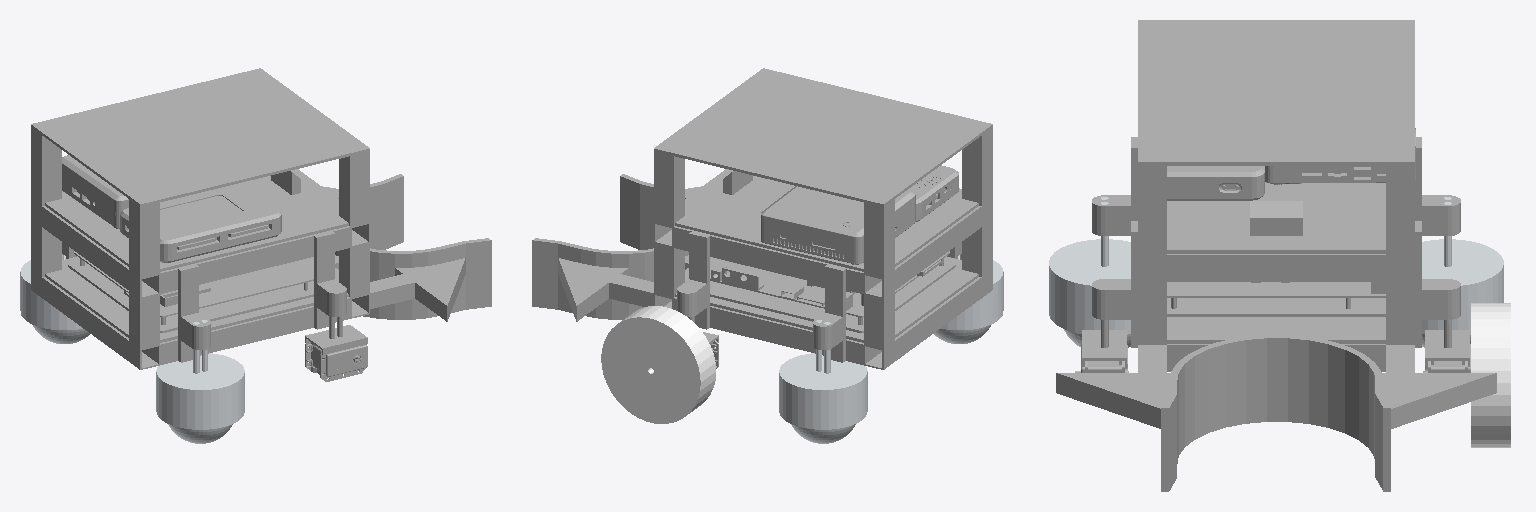
robot.urdf — lide:
<?xml version="1.0" encoding="utf-8"?>
<!-- This URDF was automatically created by SolidWorks to URDF Exporter! Originally created by [author] ([email redacted]) 
     Commit Version: 1.5.1-0-g916b5db  Build Version: 1.5.7152.31018
     For more information, please see http://wiki.ros.org/sw_urdf_exporter -->
<robot
  name="lide">
  <link
    name="base_link">
    <inertial>
      <origin
        xyz="-0.0711042596618135 0.00200303179776212 -0.0992852147953348"
        rpy="0 0 0" />
      <mass
        value="2.75314359310368" />
      <inertia
        ixx="0.00656124977474365"
        ixy="-4.33905688750446E-07"
        ixz="7.93136902499257E-06"
        iyy="0.00572527308396684"
        iyz="-4.29101613517159E-07"
        izz="0.0116295244162173" />
    </inertial>
    <visual>
      <origin
        xyz="0 0 0"
        rpy="0 0 0" />
      <geometry>
        <mesh
          filename="package://lide/meshes/base_link.STL" />
      </geometry>
      <material
        name="">
        <color
          rgba="0.752941176470588 0.752941176470588 0.752941176470588 1" />
      </material>
    </visual>
    <collision>
      <origin
        xyz="0 0 0"
        rpy="0 0 0" />
      <geometry>
        <mesh
          filename="package://lide/meshes/base_link.STL" />
      </geometry>
    </collision>
  </link>
  <link
    name="LFS">
    <inertial>
      <origin
        xyz="0.0455532547277625 -0.0606200162377168 0.00316237571883916"
        rpy="0 0 0" />
      <mass
        value="0.0606810735326679" />
      <inertia
        ixx="1.7187359000971E-05"
        ixy="-1.64845302056363E-08"
        ixz="-1.56454773175213E-07"
        iyy="1.57906996487927E-05"
        iyz="2.96411876510814E-09"
        izz="1.34932513987566E-05" />
    </inertial>
    <visual>
      <origin
        xyz="0 0 0"
        rpy="0 0 0" />
      <geometry>
        <mesh
          filename="package://lide/meshes/LFS.STL" />
      </geometry>
      <material
        name="">
        <color
          rgba="0.752941176470588 0.752941176470588 0.752941176470588 1" />
      </material>
    </visual>
    <collision>
      <origin
        xyz="0 0 0"
        rpy="0 0 0" />
      <geometry>
        <mesh
          filename="package://lide/meshes/LFS.STL" />
      </geometry>
    </collision>
  </link>
  <joint
    name="LFS"
    type="fixed">
    <origin
      xyz="-0.00886806590619984 0.084403640036847 -0.1235"
      rpy="1.5707963267949 0 1.5707963267949" />
    <parent
      link="base_link" />
    <child
      link="LFS" />
    <axis
      xyz="0 1 0" />
    <limit
      lower="0"
      upper="0"
      effort="0"
      velocity="0" />
  </joint>
  <link
    name="LFW">
    <inertial>
      <origin
        xyz="0.015 0 0"
        rpy="0 0 0" />
      <mass
        value="0.289786121963991" />
      <inertia
        ixx="0.000439831942427159"
        ixy="2.98814337398872E-36"
        ixz="1.04090832548244E-36"
        iyy="0.000241649930360879"
        iyz="1.61397654169218E-36"
        izz="0.000241649930360879" />
    </inertial>
    <visual>
      <origin
        xyz="0 0 0"
        rpy="0 0 0" />
      <geometry>
        <mesh
          filename="package://lide/meshes/LFW.STL" />
      </geometry>
      <material
        name="">
        <color
          rgba="1 1 1 1" />
      </material>
    </visual>
    <collision>
      <origin
        xyz="0 0 0"
        rpy="0 0 0" />
      <geometry>
        <mesh
          filename="package://lide/meshes/LFW.STL" />
      </geometry>
    </collision>
  </link>
  <joint
    name="LFW"
    type="continuous">
    <origin
      xyz="0.0633463599631528 -0.0698007864376266 0.0150436140506664"
      rpy="0 0 0" />
    <parent
      link="LFS" />
    <child
      link="LFW" />
    <axis
      xyz="1 0 0" />
  </joint>
  <link
    name="RFS">
    <inertial>
      <origin
        xyz="-0.0191756587025613 -0.060657949879968 0.0521917790884628"
        rpy="0 0 0" />
      <mass
        value="0.0606810735326679" />
      <inertia
        ixx="1.7187359000971E-05"
        ixy="-1.64845302056314E-08"
        ixz="1.56454773175216E-07"
        iyy="1.57906996487927E-05"
        iyz="-2.96411876510635E-09"
        izz="1.34932513987566E-05" />
    </inertial>
    <visual>
      <origin
        xyz="0 0 0"
        rpy="0 0 0" />
      <geometry>
        <mesh
          filename="package://lide/meshes/RFS.STL" />
      </geometry>
      <material
        name="">
        <color
          rgba="0.752941176470588 0.752941176470588 0.752941176470588 1" />
      </material>
    </visual>
    <collision>
      <origin
        xyz="0 0 0"
        rpy="0 0 0" />
      <geometry>
        <mesh
          filename="package://lide/meshes/RFS.STL" />
      </geometry>
    </collision>
  </link>
  <joint
    name="RFS"
    type="fixed">
    <origin
      xyz="-0.0578974692758227 -0.110781236062048 -0.1235"
      rpy="1.5707963267949 0 1.5707963267949" />
    <parent
      link="base_link" />
    <child
      link="RFS" />
    <axis
      xyz="0 0 0" />
    <limit
      lower="0"
      upper="0"
      effort="0"
      velocity="0" />
  </joint>
  <link
    name="RFW">
    <inertial>
      <origin
        xyz="-0.015 0 0"
        rpy="0 0 0" />
      <mass
        value="0.289786121963991" />
      <inertia
        ixx="0.000439831942427158"
        ixy="-2.38864125506935E-36"
        ixz="3.24568444428499E-37"
        iyy="0.000241649930360879"
        iyz="1.61397654169217E-36"
        izz="0.000241649930360879" />
    </inertial>
    <visual>
      <origin
        xyz="0 0 0"
        rpy="0 0 0" />
      <geometry>
        <mesh
          filename="package://lide/meshes/RFW.STL" />
      </geometry>
      <material
        name="">
        <color
          rgba="1 1 1 1" />
      </material>
    </visual>
    <collision>
      <origin
        xyz="0 0 0"
        rpy="0 0 0" />
      <geometry>
        <mesh
          filename="package://lide/meshes/RFW.STL" />
      </geometry>
    </collision>
  </link>
  <joint
    name="RFW"
    type="continuous">
    <origin
      xyz="-0.0369687639379516 -0.0697992135623731 0.0640730174202912"
      rpy="0 0 0" />
    <parent
      link="RFS" />
    <child
      link="RFW" />
    <axis
      xyz="1 0 0" />
  </joint>
  <link
    name="LBS">
    <inertial>
      <origin
        xyz="2.77555756156289E-17 -0.0670350798495457 -2.77555756156289E-17"
        rpy="0 0 0" />
      <mass
        value="0.363667376200125" />
      <inertia
        ixx="0.000280063193969241"
        ixy="-5.63019329290559E-20"
        ixz="1.14404597665131E-19"
        iyy="0.000430293340175671"
        iyz="-3.09671083232554E-20"
        izz="0.000279903038811602" />
    </inertial>
    <visual>
      <origin
        xyz="0 0 0"
        rpy="0 0 0" />
      <geometry>
        <mesh
          filename="package://lide/meshes/LBS.STL" />
      </geometry>
      <material
        name="">
        <color
          rgba="0.898039215686275 0.917647058823529 0.929411764705882 1" />
      </material>
    </visual>
    <collision>
      <origin
        xyz="0 0 0"
        rpy="0 0 0" />
      <geometry>
        <mesh
          filename="package://lide/meshes/LBS.STL" />
      </geometry>
    </collision>
  </link>
  <joint
    name="LBS"
    type="fixed">
    <origin
      xyz="-0.156824451855531 0.130000000000001 -0.1235"
      rpy="1.5707963267949 0 1.5707963267949" />
    <parent
      link="base_link" />
    <child
      link="LBS" />
    <axis
      xyz="0 0 0" />
    <limit
      lower="0"
      upper="0"
      effort="0"
      velocity="0" />
  </joint>
  <link
    name="LBW">
    <inertial>
      <origin
        xyz="0 0 -6.93889390390723E-16"
        rpy="0 0 0" />
      <mass
        value="0.484904826081584" />
      <inertia
        ixx="0.000237603364779976"
        ixy="0"
        ixz="0"
        iyy="0.000237603364779976"
        iyz="0"
        izz="0.000237603364779976" />
    </inertial>
    <visual>
      <origin
        xyz="0 0 0"
        rpy="0 0 0" />
      <geometry>
        <mesh
          filename="package://lide/meshes/LBW.STL" />
      </geometry>
      <material
        name="">
        <color
          rgba="0.898039215686275 0.917647058823529 0.929411764705882 1" />
      </material>
    </visual>
    <collision>
      <origin
        xyz="0 0 0"
        rpy="0 0 0" />
      <geometry>
        <mesh
          filename="package://lide/meshes/LBW.STL" />
      </geometry>
    </collision>
  </link>
  <joint
    name="LBW"
    type="fixed">
    <origin
      xyz="0 -0.0898 0"
      rpy="0 0 0" />
    <parent
      link="LBS" />
    <child
      link="LBW" />
    <axis
      xyz="0 0 0" />
  </joint>
  <link
    name="RBS">
    <inertial>
      <origin
        xyz="1.73472347597681E-17 -0.0670350798495457 2.77555756156289E-17"
        rpy="0 0 0" />
      <mass
        value="0.363667376200125" />
      <inertia
        ixx="0.000280063193969241"
        ixy="1.95201437808817E-20"
        ixz="-5.7222726884973E-20"
        iyy="0.000430293340175671"
        iyz="-3.09197962639525E-20"
        izz="0.000279903038811602" />
    </inertial>
    <visual>
      <origin
        xyz="0 0 0"
        rpy="0 0 0" />
      <geometry>
        <mesh
          filename="package://lide/meshes/RBS.STL" />
      </geometry>
      <material
        name="">
        <color
          rgba="0.898039215686275 0.917647058823529 0.929411764705882 1" />
      </material>
    </visual>
    <collision>
      <origin
        xyz="0 0 0"
        rpy="0 0 0" />
      <geometry>
        <mesh
          filename="package://lide/meshes/RBS.STL" />
      </geometry>
    </collision>
  </link>
  <joint
    name="RBS"
    type="fixed">
    <origin
      xyz="-0.156824451855531 -0.13 -0.1235"
      rpy="1.5707963267949 0 1.5707963267949" />
    <parent
      link="base_link" />
    <child
      link="RBS" />
    <axis
      xyz="0 0 0" />
    <limit
      lower="0"
      upper="0"
      effort="0"
      velocity="0" />
  </joint>
  <link
    name="RBW">
    <inertial>
      <origin
        xyz="-3.46944695195361E-18 0 -2.77555756156289E-17"
        rpy="0 0 0" />
      <mass
        value="0.484904826081584" />
      <inertia
        ixx="0.000237603364779976"
        ixy="0"
        ixz="0"
        iyy="0.000237603364779976"
        iyz="-4.21645910160096E-53"
        izz="0.000237603364779976" />
    </inertial>
    <visual>
      <origin
        xyz="0 0 0"
        rpy="0 0 0" />
      <geometry>
        <mesh
          filename="package://lide/meshes/RBW.STL" />
      </geometry>
      <material
        name="">
        <color
          rgba="0.898039215686275 0.917647058823529 0.929411764705882 1" />
      </material>
    </visual>
    <collision>
      <origin
        xyz="0 0 0"
        rpy="0 0 0" />
      <geometry>
        <mesh
          filename="package://lide/meshes/RBW.STL" />
      </geometry>
    </collision>
  </link>
  <joint
    name="RBW"
    type="fixed">
    <origin
      xyz="0 -0.0898 0"
      rpy="0 0 0" />
    <parent
      link="RBS" />
    <child
      link="RBW" />
    <axis
      xyz="0 0 1" />
  </joint>
  <link
    name="fcam">
    <inertial>
      <origin
        xyz="0.000445525090231219 -1.10631679103163E-05 0.00129821973144108"
        rpy="0 0 0" />
      <mass
        value="0.0436119950287128" />
      <inertia
        ixx="2.357070580464E-05"
        ixy="-1.01813691701948E-09"
        ixz="2.17579681215333E-08"
        iyy="4.29479133591152E-06"
        iyz="-8.85791114029631E-10"
        izz="2.21058141232448E-05" />
    </inertial>
    <visual>
      <origin
        xyz="0 0 0"
        rpy="0 0 0" />
      <geometry>
        <mesh
          filename="package://lide/meshes/fcam.STL" />
      </geometry>
      <material
        name="">
        <color
          rgba="0.792156862745098 0.819607843137255 0.933333333333333 1" />
      </material>
    </visual>
    <collision>
      <origin
        xyz="0 0 0"
        rpy="0 0 0" />
      <geometry>
        <mesh
          filename="package://lide/meshes/fcam.STL" />
      </geometry>
    </collision>
  </link>
  <joint
    name="fcam"
    type="fixed">
    <origin
      xyz="0.0331755481444686 0 -0.0150079249089001"
      rpy="0 0 0" />
    <parent
      link="base_link" />
    <child
      link="fcam" />
    <axis
      xyz="0 0 0" />
  </joint>
  <link
    name="bcam">
    <inertial>
      <origin
        xyz="0.000445525343312575 -1.10630004969137E-05 0.00129821972548668"
        rpy="0 0 0" />
      <mass
        value="0.0436119949785286" />
      <inertia
        ixx="2.35707056099601E-05"
        ixy="-1.0183475800762E-09"
        ixz="2.17579332532706E-08"
        iyy="4.29479078276669E-06"
        iyz="-8.85484503938275E-10"
        izz="2.21058144654639E-05" />
    </inertial>
    <visual>
      <origin
        xyz="0 0 0"
        rpy="0 0 0" />
      <geometry>
        <mesh
          filename="package://lide/meshes/bcam.STL" />
      </geometry>
      <material
        name="">
        <color
          rgba="0.792156862745098 0.819607843137255 0.933333333333333 1" />
      </material>
    </visual>
    <collision>
      <origin
        xyz="0 0 0"
        rpy="0 0 0" />
      <geometry>
        <mesh
          filename="package://lide/meshes/bcam.STL" />
      </geometry>
    </collision>
  </link>
  <joint
    name="bcam"
    type="fixed">
    <origin
      xyz="0.0245945655901036 0 -0.0502880893355512"
      rpy="0 0.785398163397447 0" />
    <parent
      link="base_link" />
    <child
      link="bcam" />
    <axis
      xyz="0 0 0" />
  </joint>
  <link
    name="Lidar">
    <inertial>
      <origin
        xyz="0.013523359927176 0.000461956322110976 -0.0287648857829232"
        rpy="0 0 0" />
      <mass
        value="0.0730845704572346" />
      <inertia
        ixx="1.95808756959143E-05"
        ixy="-1.03933567565451E-07"
        ixz="-4.28391178462019E-07"
        iyy="2.41250079167914E-05"
        iyz="9.42708798595583E-09"
        izz="4.1418451581752E-05" />
    </inertial>
    <visual>
      <origin
        xyz="0 0 0"
        rpy="0 0 0" />
      <geometry>
        <mesh
          filename="package://lide/meshes/Lidar.STL" />
      </geometry>
      <material
        name="">
        <color
          rgba="0.792156862745098 0.819607843137255 0.933333333333333 1" />
      </material>
    </visual>
    <collision>
      <origin
        xyz="0 0 0"
        rpy="0 0 0" />
      <geometry>
        <mesh
          filename="package://lide/meshes/Lidar.STL" />
      </geometry>
    </collision>
  </link>
  <joint
    name="Lidar"
    type="fixed">
    <origin
      xyz="-0.149400819455678 -0.000994047553704497 0.0564999999999964"
      rpy="0 0 0" />
    <parent
      link="base_link" />
    <child
      link="Lidar" />
    <axis
      xyz="0 0 0" />
  </joint>
  <link
    name="imu_link">
    <inertial>
      <origin
        xyz="-0.00323296992310948 0.00127172355417984 -0.0010337757523434"
        rpy="0 0 0" />
      <mass
        value="0.000700668770280508" />
      <inertia
        ixx="2.88678245723754E-08"
        ixy="5.15608113172248E-11"
        ixz="5.7226530834403E-12"
        iyy="1.79804986897453E-08"
        iyz="-2.33370019012918E-11"
        izz="4.63828093964935E-08" />
    </inertial>
    <visual>
      <origin
        xyz="0 0 0"
        rpy="0 0 0" />
      <geometry>
        <mesh
          filename="package://lide/meshes/imu_link.STL" />
      </geometry>
      <material
        name="">
        <color
          rgba="0.792156862745098 0.819607843137255 0.933333333333333 1" />
      </material>
    </visual>
    <collision>
      <origin
        xyz="0 0 0"
        rpy="0 0 0" />
      <geometry>
        <mesh
          filename="package://lide/meshes/imu_link.STL" />
      </geometry>
    </collision>
  </link>
  <joint
    name="imu_link"
    type="fixed">
    <origin
      xyz="-0.00630563558296174 -0.0012093251533742 0.005"
      rpy="0 0 0" />
    <parent
      link="base_link" />
    <child
      link="imu_link" />
    <axis
      xyz="0 0 0" />
  </joint>
</robot>

--- Render facts (derived) ---
The picture shows the robot from 3 angles, left to right: view 1: azimuth 30°, elevation 25°; view 2: azimuth 150°, elevation 25°; view 3: azimuth 270°, elevation 25°; orthographic projection.
Robot: lide — 13 links, 12 joints (2 continuous, 10 fixed); root link base_link; default pose: all joints at 0.
Visible links, largest first — view 1: base_link, RBS, RFS, LBS, RBW, LBW; view 2: base_link, LFW, LBS, RBS, LBW, RBW; view 3: base_link, RBS, LFW, LBS, RFS, LFS.
Boxes of the visible links, left/top/right/bottom form: base_link: left=31, top=68, right=491, bottom=369; RBS: left=156, top=320, right=244, bottom=429; RFS: left=305, top=287, right=367, bottom=381; LBS: left=20, top=254, right=82, bottom=329; RBW: left=168, top=424, right=232, bottom=443; LBW: left=33, top=325, right=89, bottom=343; base_link: left=532, top=68, right=992, bottom=369; LFW: left=601, top=306, right=715, bottom=423; LBS: left=779, top=320, right=867, bottom=429; RBS: left=941, top=254, right=1003, bottom=329; LBW: left=791, top=424, right=855, bottom=443; RBW: left=934, top=325, right=990, bottom=343; base_link: left=1056, top=20, right=1496, bottom=491; RBS: left=1049, top=197, right=1130, bottom=334; LFW: left=1471, top=303, right=1510, bottom=447; LBS: left=1422, top=197, right=1503, bottom=334; RFS: left=1075, top=280, right=1128, bottom=372; LFS: left=1423, top=280, right=1470, bottom=372.
Bounding box of the posed robot: 0.3983 × 0.3499 × 0.2513 m (x, y, z).
8 mesh visuals loaded from 13 distinct referenced files (8 binary STL); not drawn: 5 (reference not matched to a file when rendering).